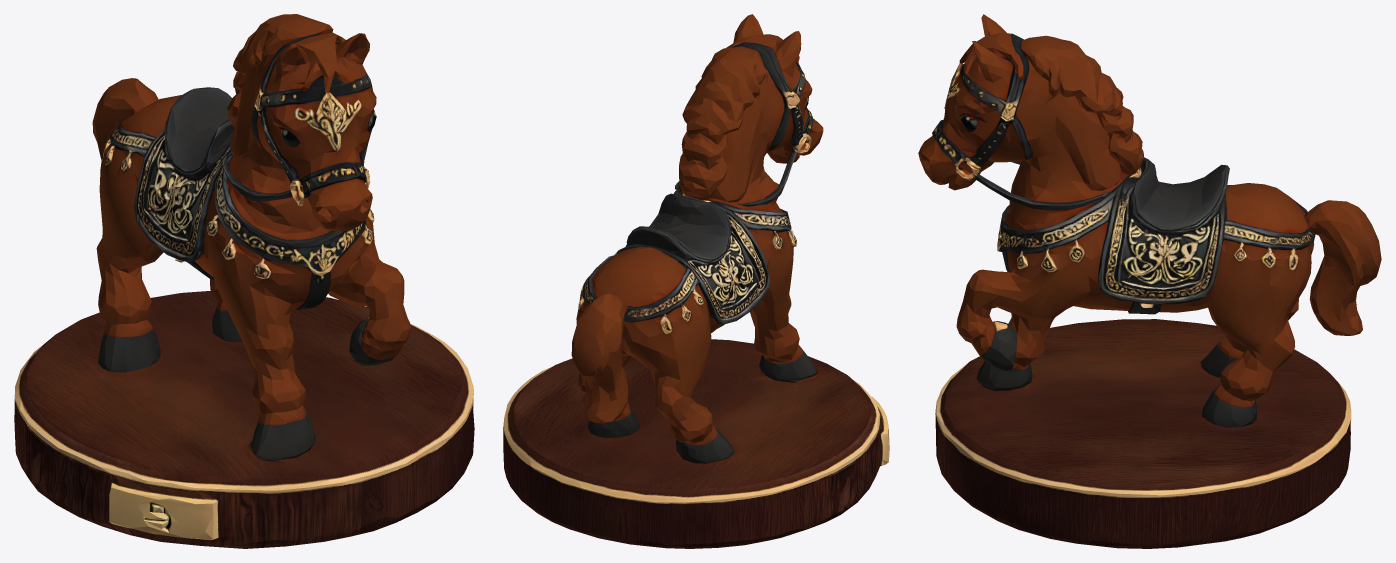
Rendered from horse_black.glb.
3 views of the same model, side by side, from view 1: azimuth 30°, elevation 25°; view 2: azimuth 150°, elevation 25°; view 3: azimuth 270°, elevation 25° (orthographic). The views are drawn at different scales.
Parts seen in each view (by area): view 1: Mesh; view 2: Mesh; view 3: Mesh.
Part boxes in pixels (left/top/right/bottom): Mesh: left=14, top=14, right=474, bottom=548; Mesh: left=503, top=14, right=889, bottom=548; Mesh: left=918, top=14, right=1381, bottom=548.
Bounding box in the file's own units: 1.61 × 1.89 × 1.81.
1 material, 1 textured.
